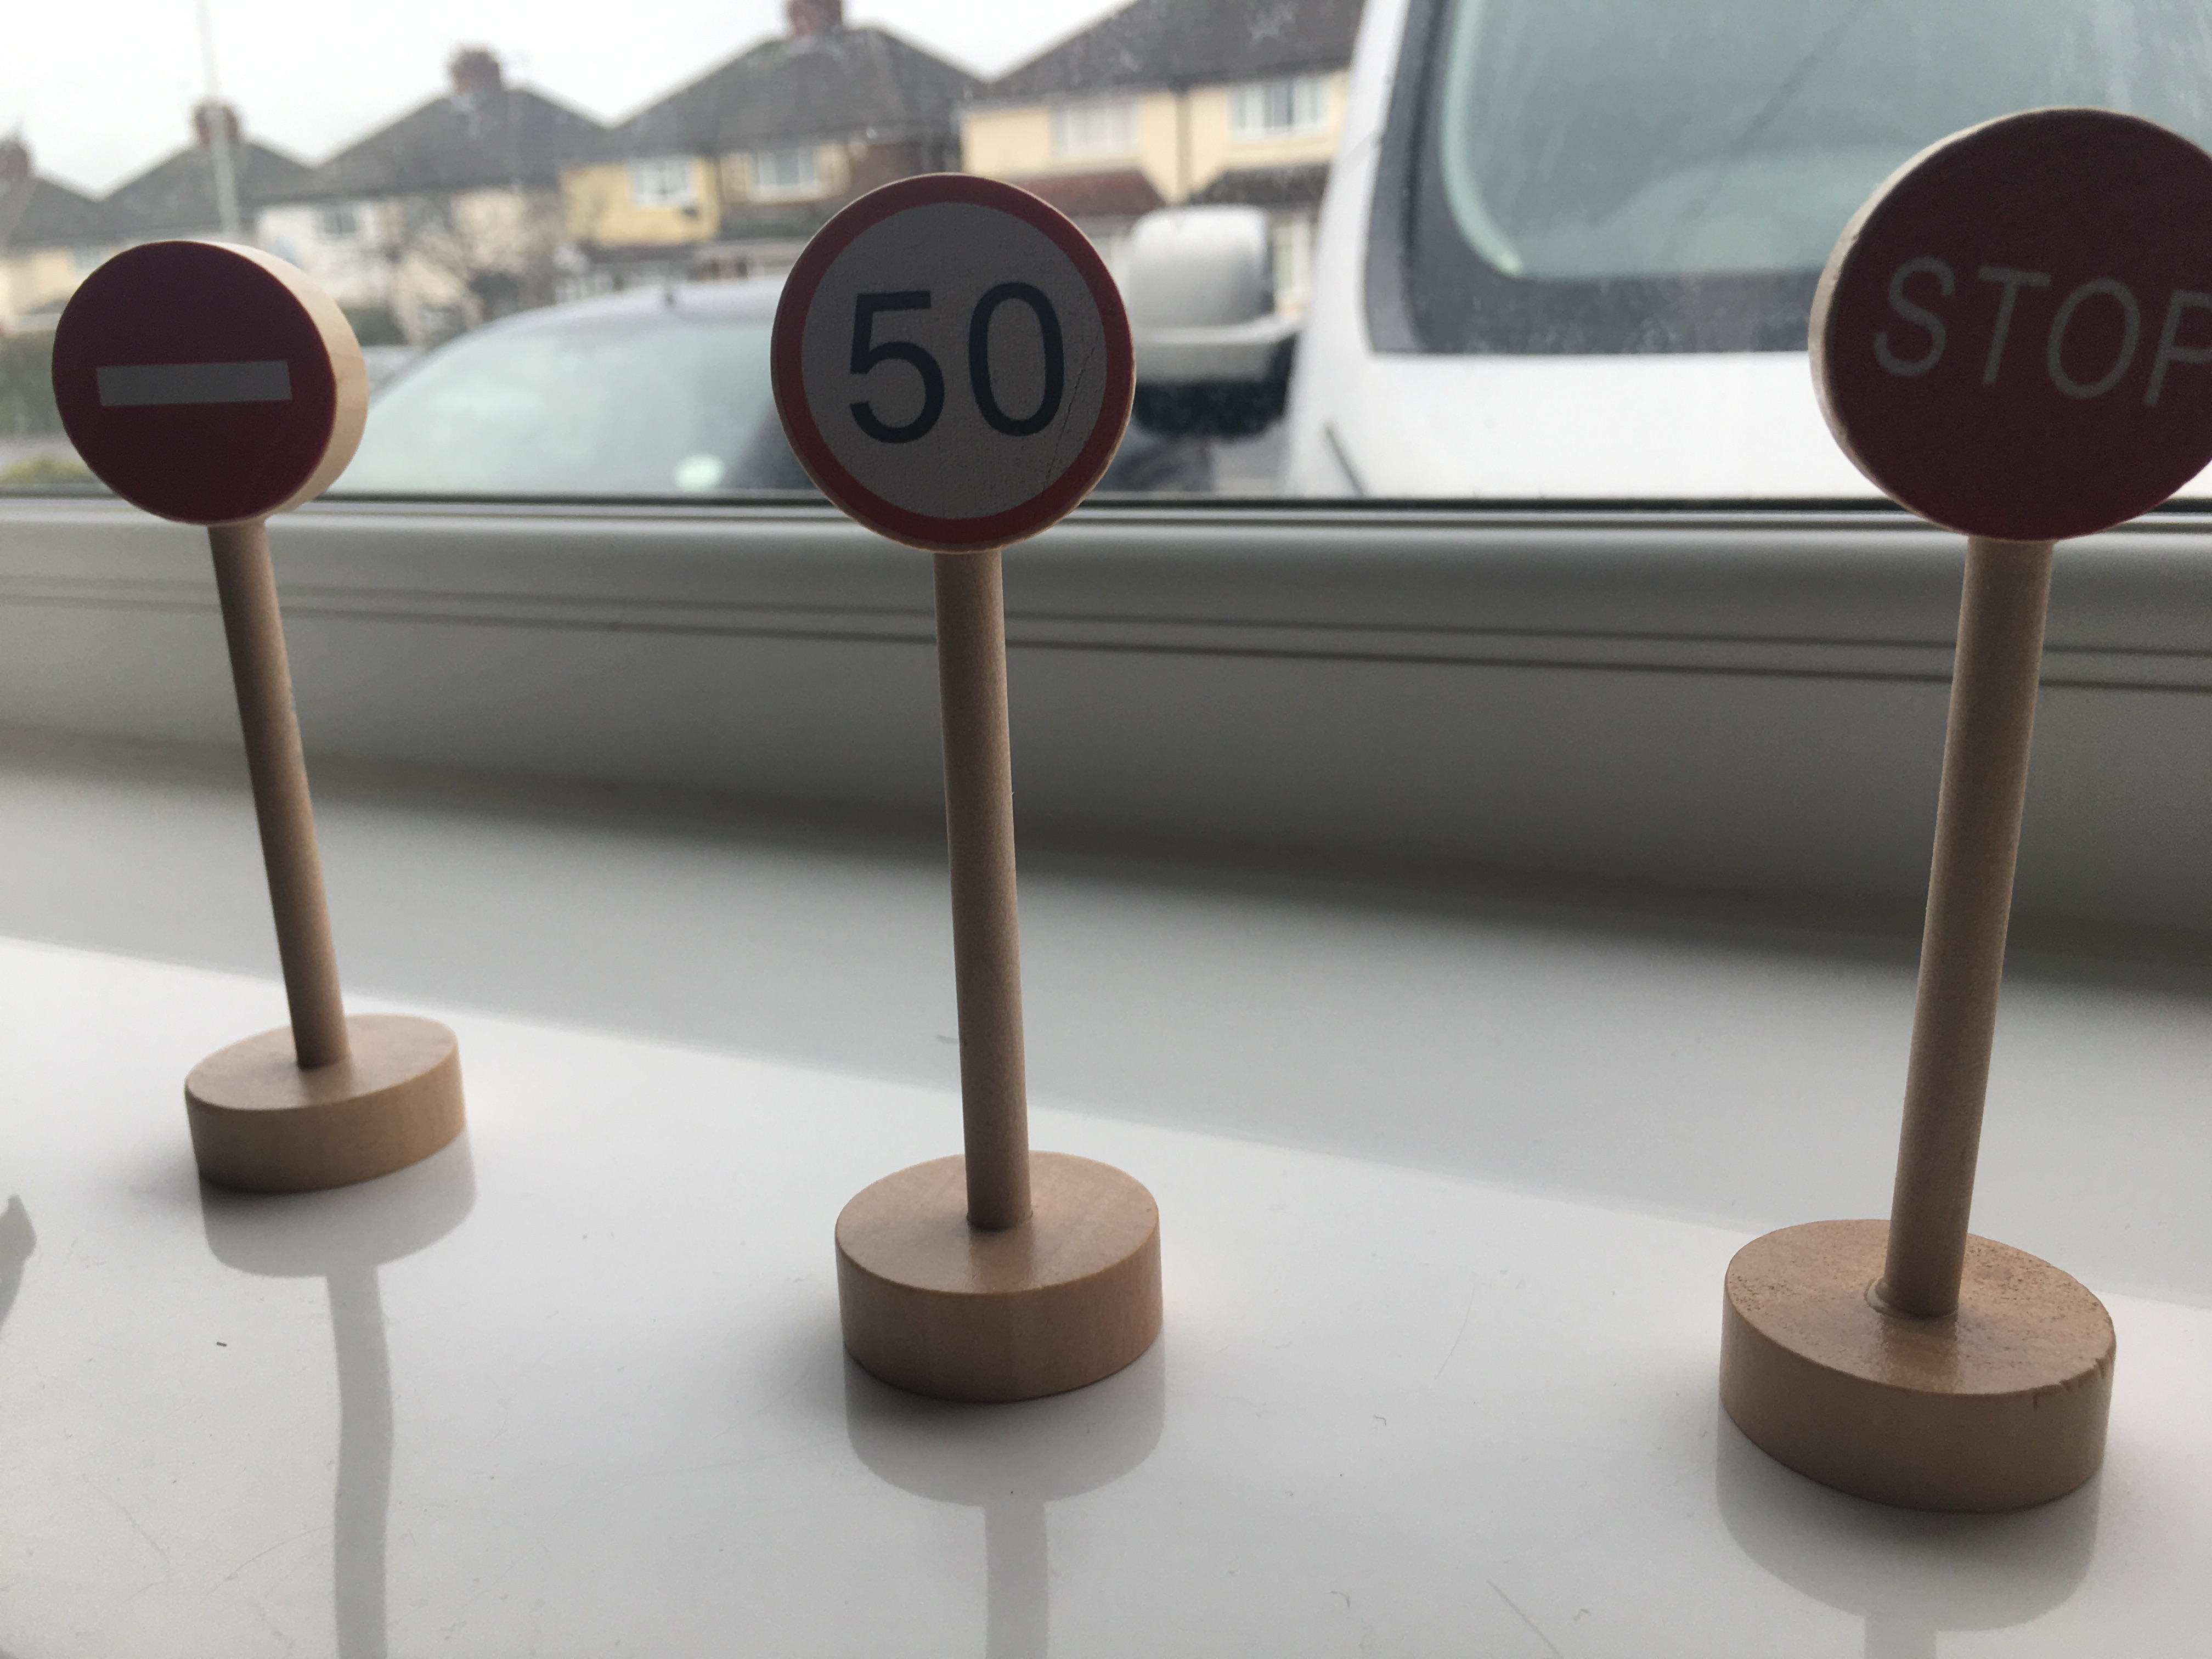Traffic_Sign_50: (751, 159, 1151, 558)
Traffic_Sign_No_Entry: (30, 227, 376, 538)
Traffic_Sign_Stop: (1791, 113, 2212, 538)
